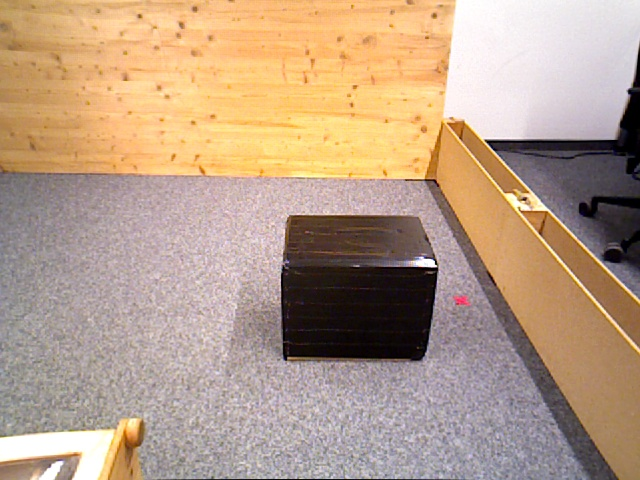push: (284, 212, 438, 367)
